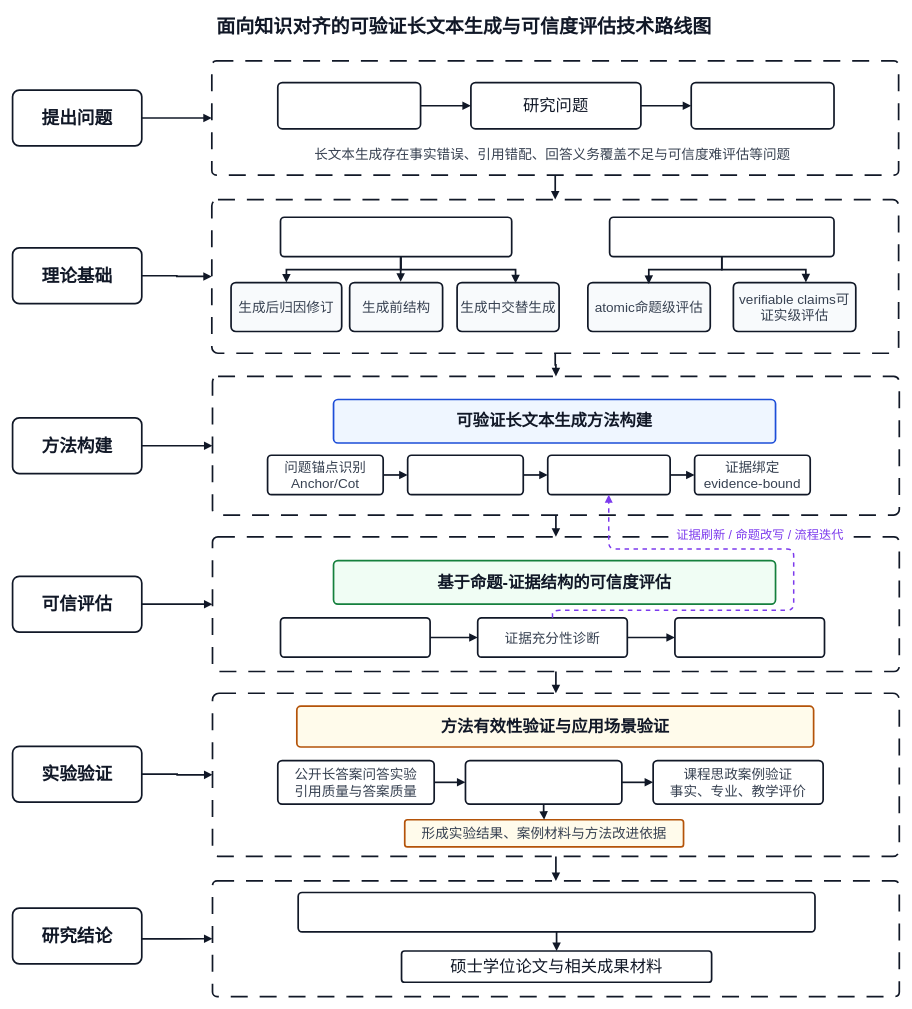
Some shapes in this 912 by 1009 pixel diagram are drawn without their labels. The shapes that lost their labels are listed below. From the top down, each one's centre as x and y in pixels, then its label:
At point 349,105: "研究背景".
At point 762,105: "研究目标".
At point 395,236: "证据归因方法梳理".
At point 721,236: "内容可信度评估梳理".
At point 465,474: "回答义务分解 burden units".
At point 609,474: "命题投影 claim units".
At point 355,637: "支持状态判断".
At point 749,637: "可信度聚合".
At point 543,782: "对照与消融实验 模块作用与边界分析".
At point 556,911: "面向知识对齐的可验证长文本生成与可信度评估方法".
